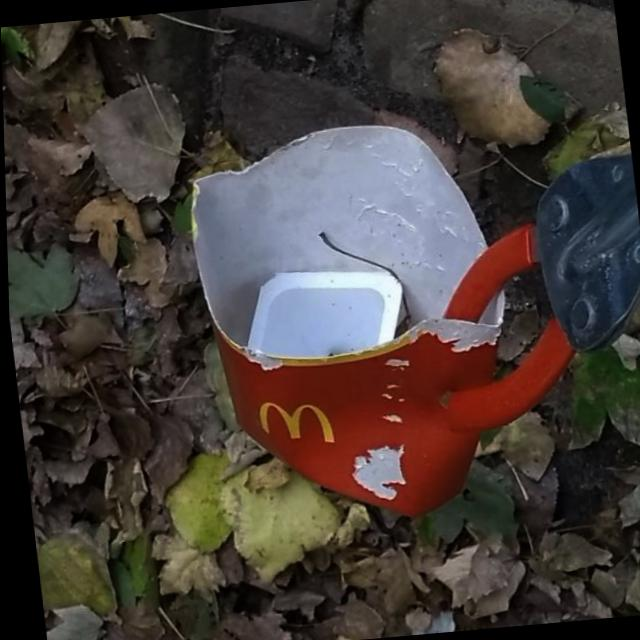Paper: (177, 114, 528, 536)
